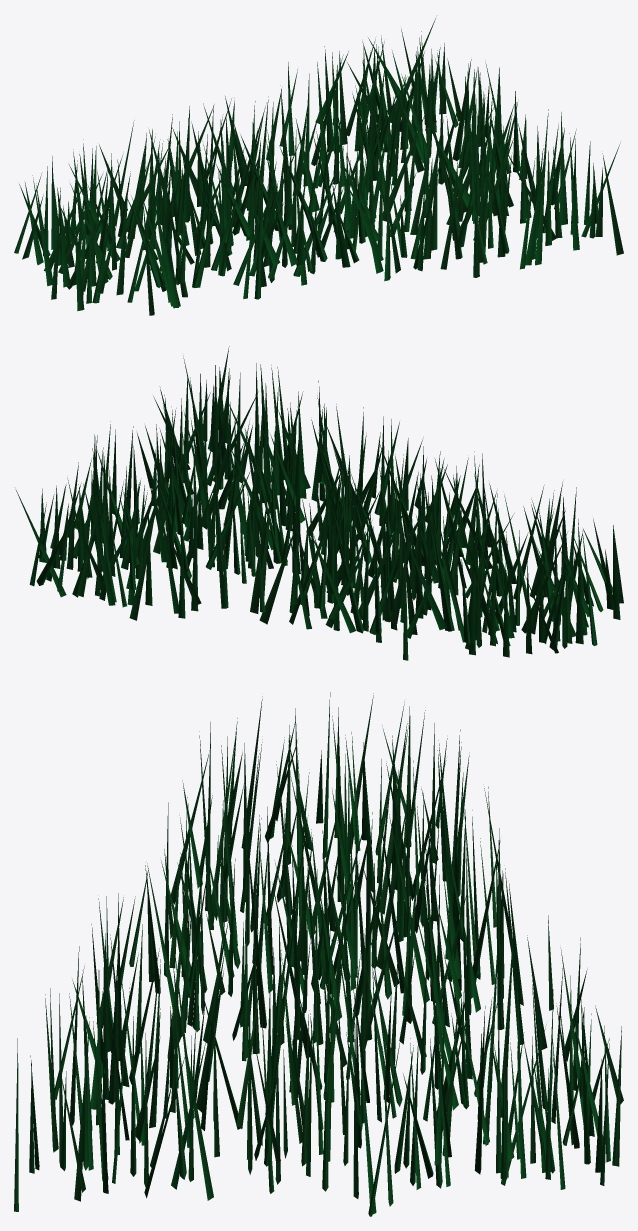
File: lowpoly_grass_clump.fbx
3 renders of one model, top to bottom at view 1: azimuth 30°, elevation 25°; view 2: azimuth 150°, elevation 25°; view 3: azimuth 270°, elevation 25°, orthographic. The views are drawn at different scales.
Parts seen in each view (by area): view 1: grass-cluster; view 2: grass-cluster; view 3: grass-cluster.
Boxes of the visible parts, x1,y1,x2,y2 form: grass-cluster: [14, 18, 623, 315]; grass-cluster: [15, 346, 623, 660]; grass-cluster: [14, 692, 623, 1216].
Bounding box in the file's own units: 1650 × 399 × 1141.
1 material, 1 textured.
